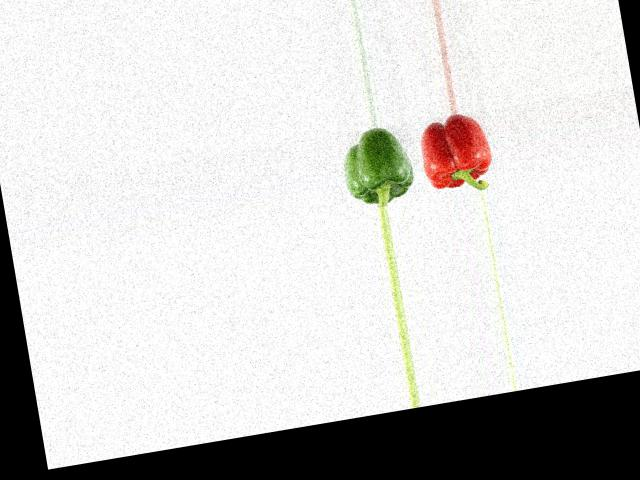bell_pepper: (336, 125, 420, 211)
